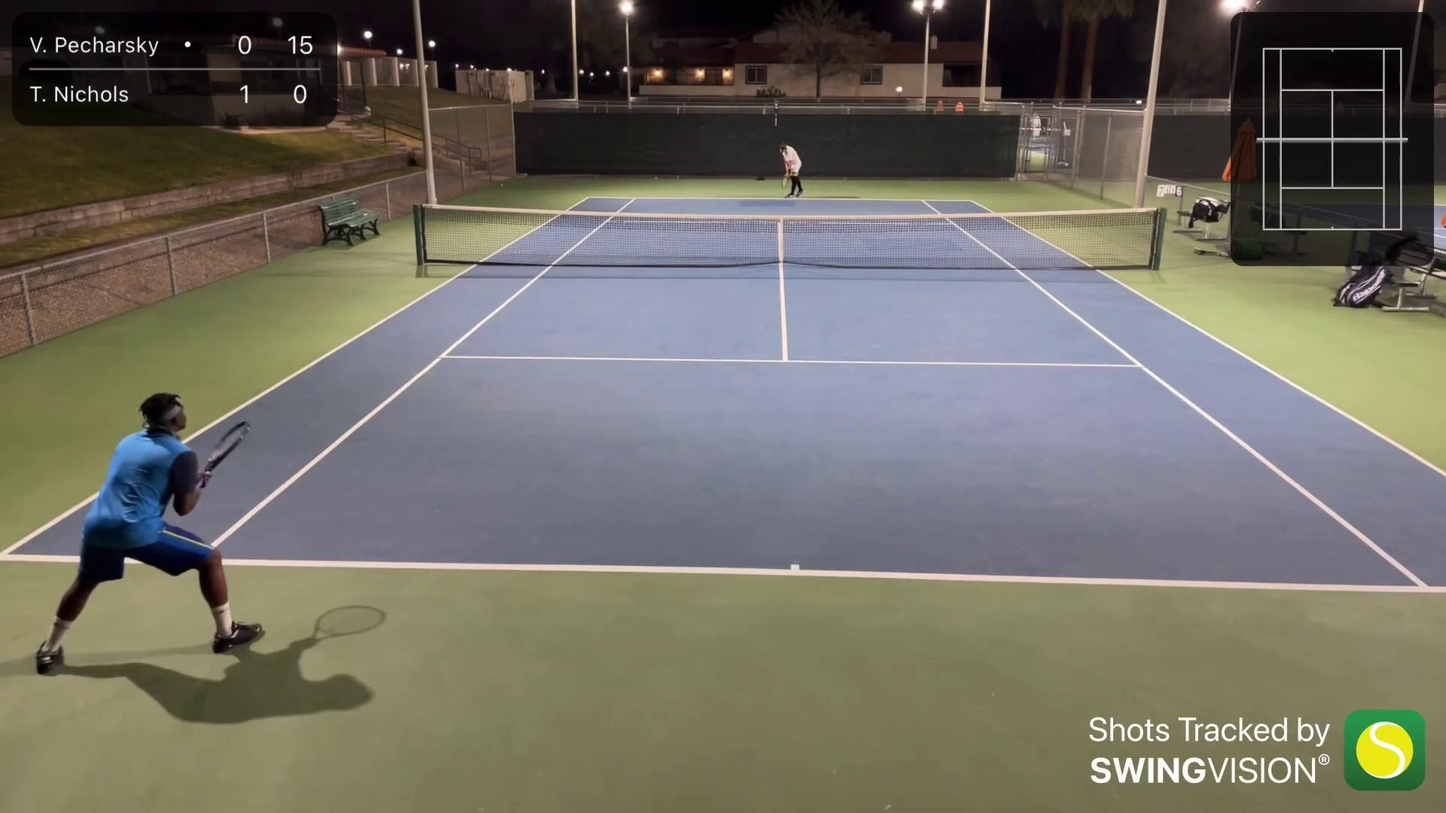ball: (497, 181, 506, 188), (653, 174, 658, 182)
